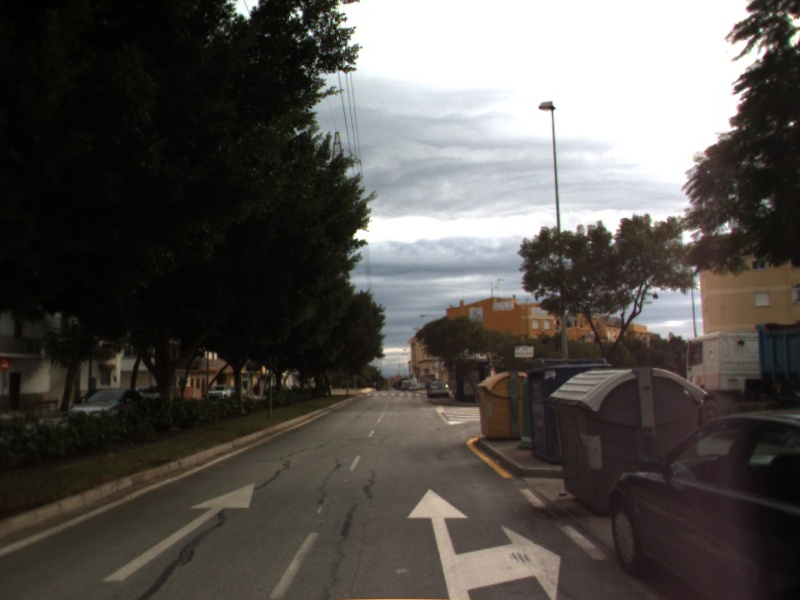STRAIGHT: (101, 480, 257, 583)
STRAIGHT_RIGHT: (403, 486, 564, 600)
